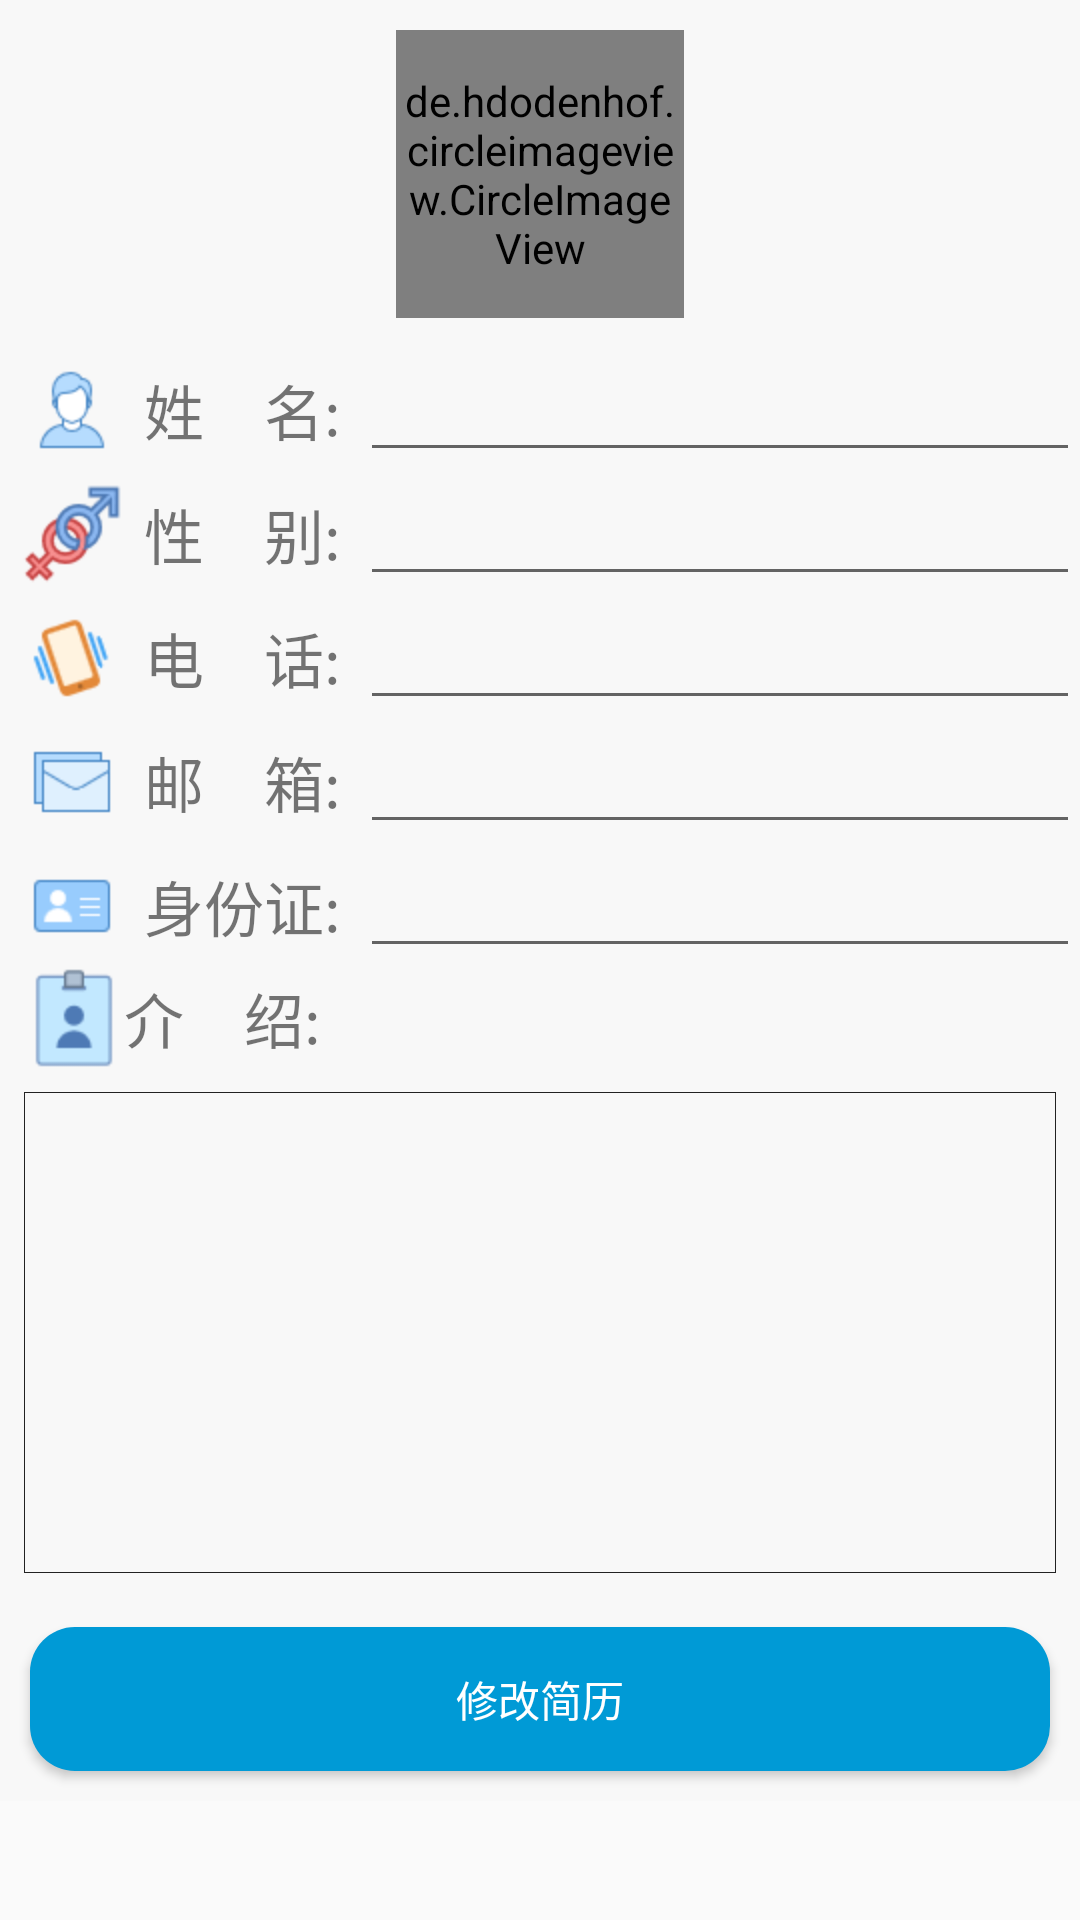

Point at icon controls on the screen. Image size 1080x1920, points as [x,y].
email: [72,782]
idcard: [72,906]
tel: [71,658]
